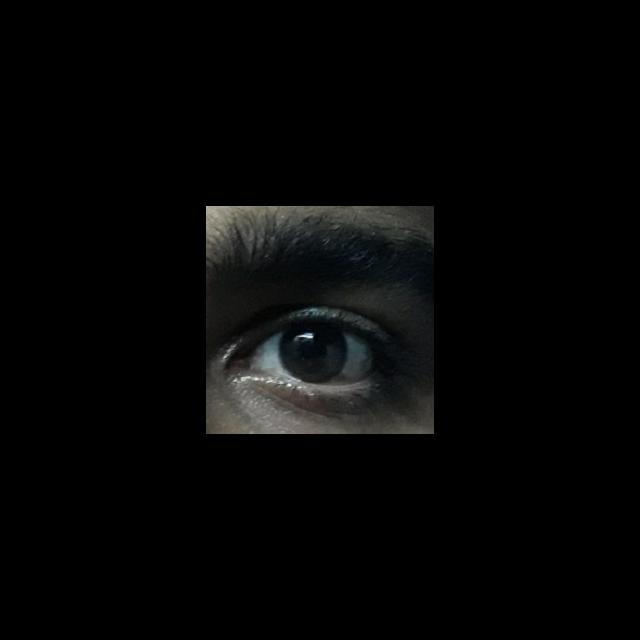eye: (252, 323, 378, 387)
iris: (279, 327, 348, 383)
